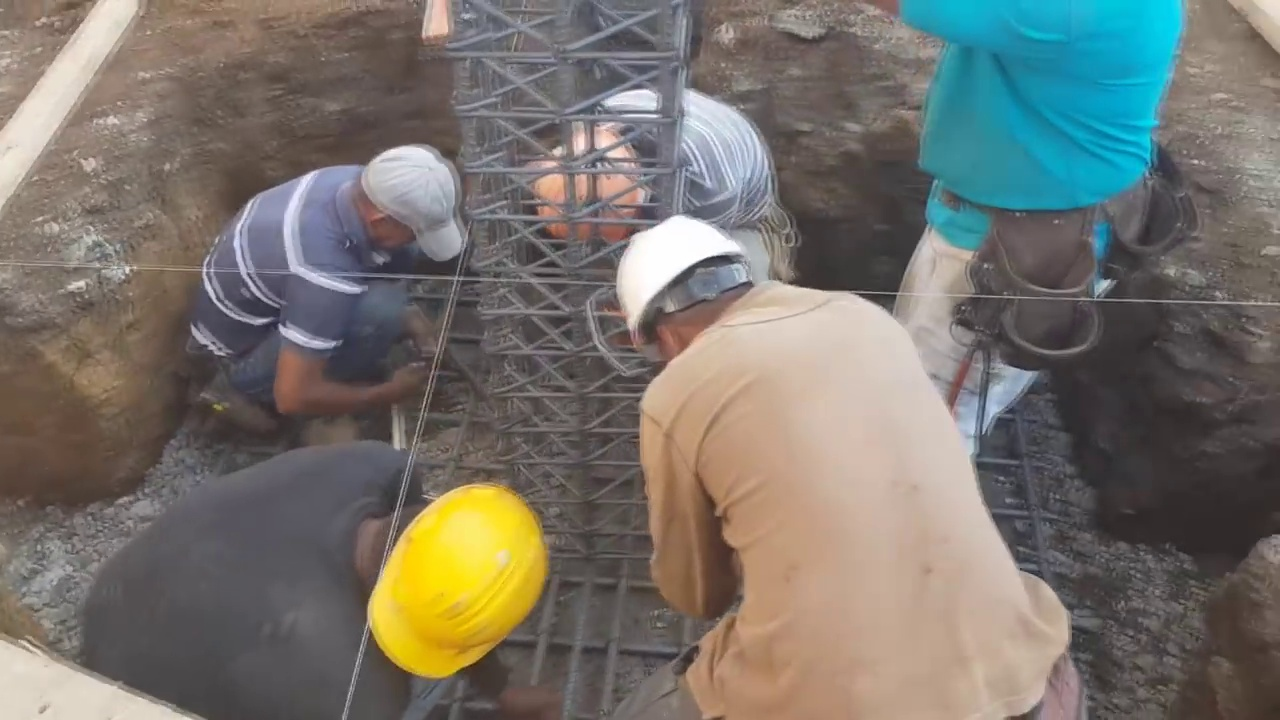helmet: (371, 483, 544, 680), (614, 209, 751, 351), (529, 138, 639, 239)
helmet-off: (342, 142, 457, 259)
helmet-on: (342, 479, 550, 684), (615, 204, 777, 369), (536, 117, 664, 240)
person: (613, 214, 1088, 719), (867, 0, 1179, 459), (85, 450, 555, 720), (173, 131, 470, 437), (529, 71, 795, 279)
